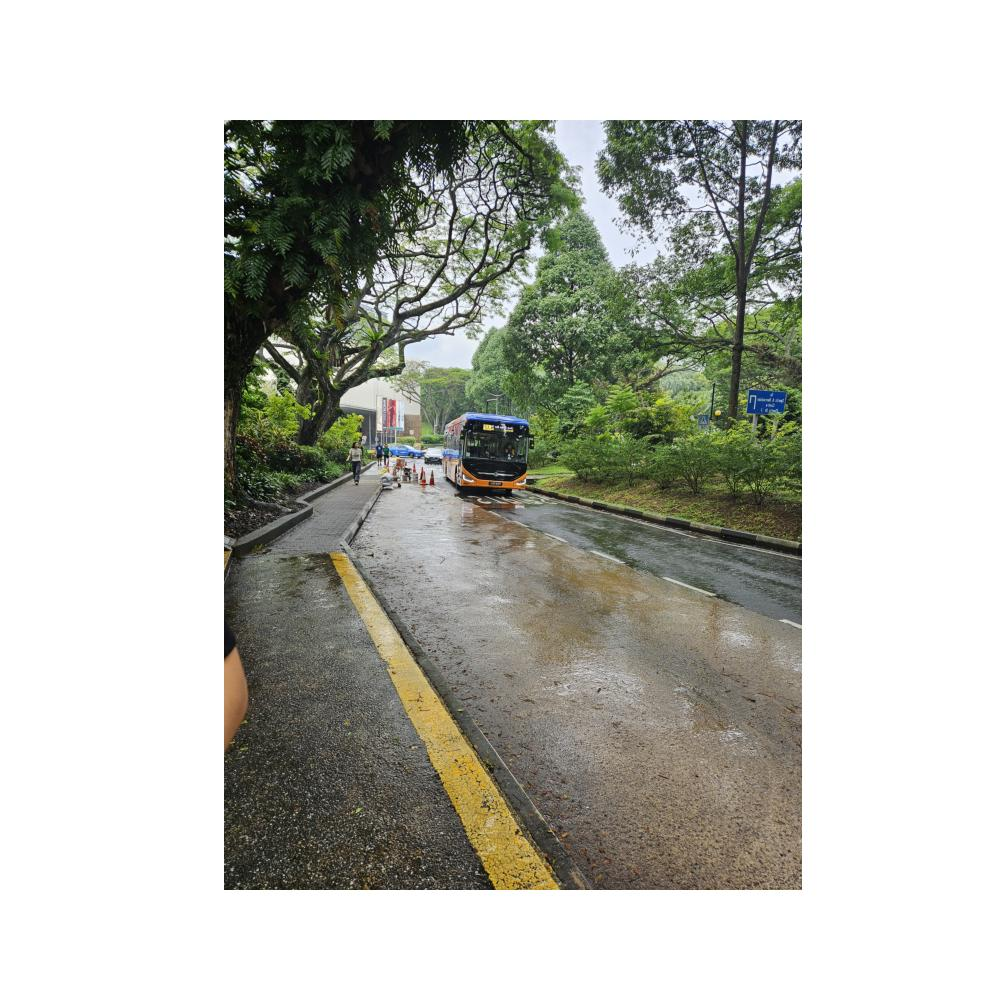bus: (435, 412, 535, 498)
